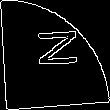N_W: (30, 34, 80, 76)
